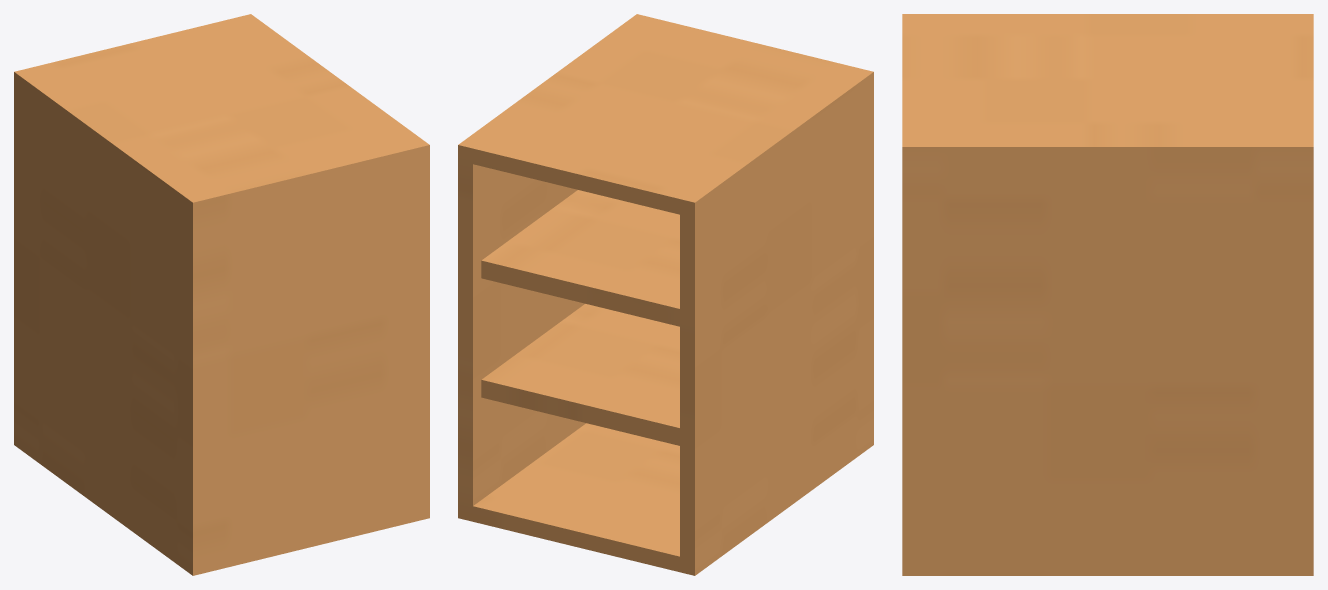
Rendered from CabinetB07.glb.
3 views of the same model, side by side, from view 1: azimuth 30°, elevation 25°; view 2: azimuth 150°, elevation 25°; view 3: azimuth 270°, elevation 25° (orthographic). The views are drawn at different scales.
Visible parts, largest first — view 1: CabinetB07_model; view 2: CabinetB07_model; view 3: CabinetB07_model.
Boxes of the visible parts, x1,y1,x2,y2 form: CabinetB07_model: (14,14,429,575); CabinetB07_model: (458,14,873,575); CabinetB07_model: (902,14,1313,575).
Bounding box in the file's own units: 0.9201 × 1.39 × 1.2.
Materials: 1 (1 with a texture image).
